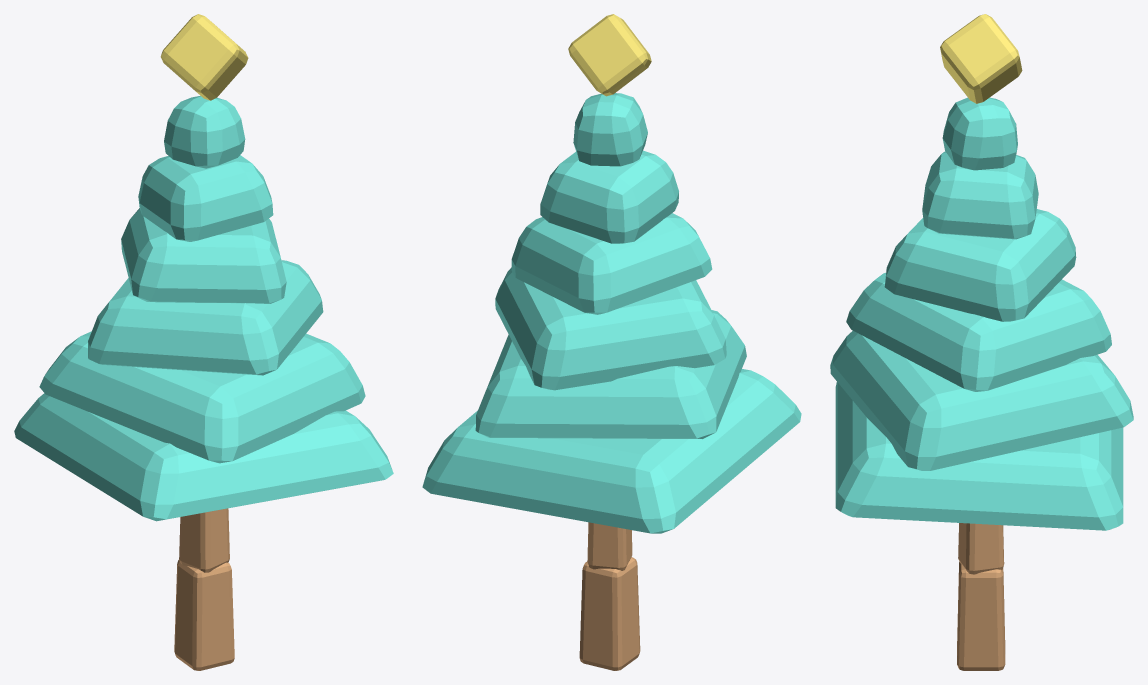
File: spiral_tree.glb
The picture shows the model from 3 angles, left to right: view 1: azimuth 30°, elevation 25°; view 2: azimuth 150°, elevation 25°; view 3: azimuth 270°, elevation 25°; orthographic projection.
Visible parts, largest first — view 1: spiral_tree; view 2: spiral_tree; view 3: spiral_tree.
Part boxes in pixels (x1,y1,x2,y2): spiral_tree: [14, 14, 393, 670]; spiral_tree: [422, 14, 801, 670]; spiral_tree: [830, 14, 1133, 670].
Bounding box in the file's own units: 4.34 × 10.25 × 4.35.
